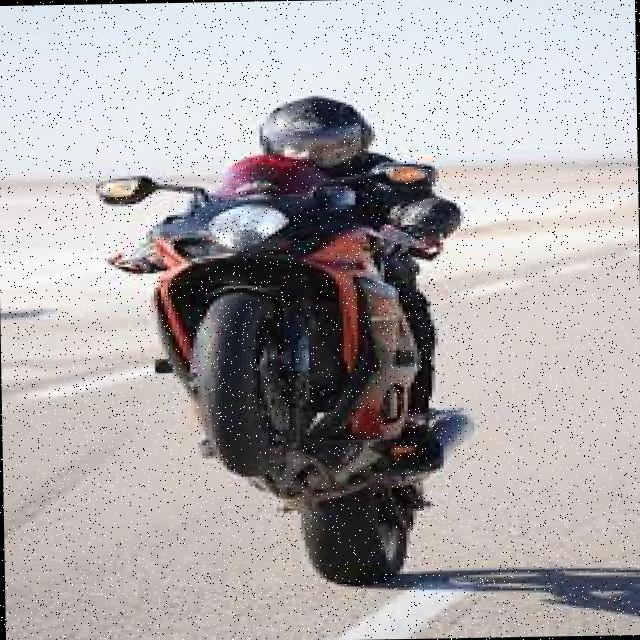Wheeling: (135, 78, 464, 597)
